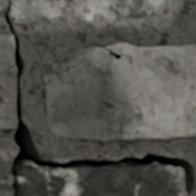brick: (41, 43, 195, 140), (0, 35, 16, 128)
broken_brick: (0, 160, 179, 195), (10, 0, 167, 26), (0, 0, 6, 16)
crack: (2, 0, 194, 195), (99, 45, 122, 59), (11, 183, 18, 195), (49, 46, 56, 53)
